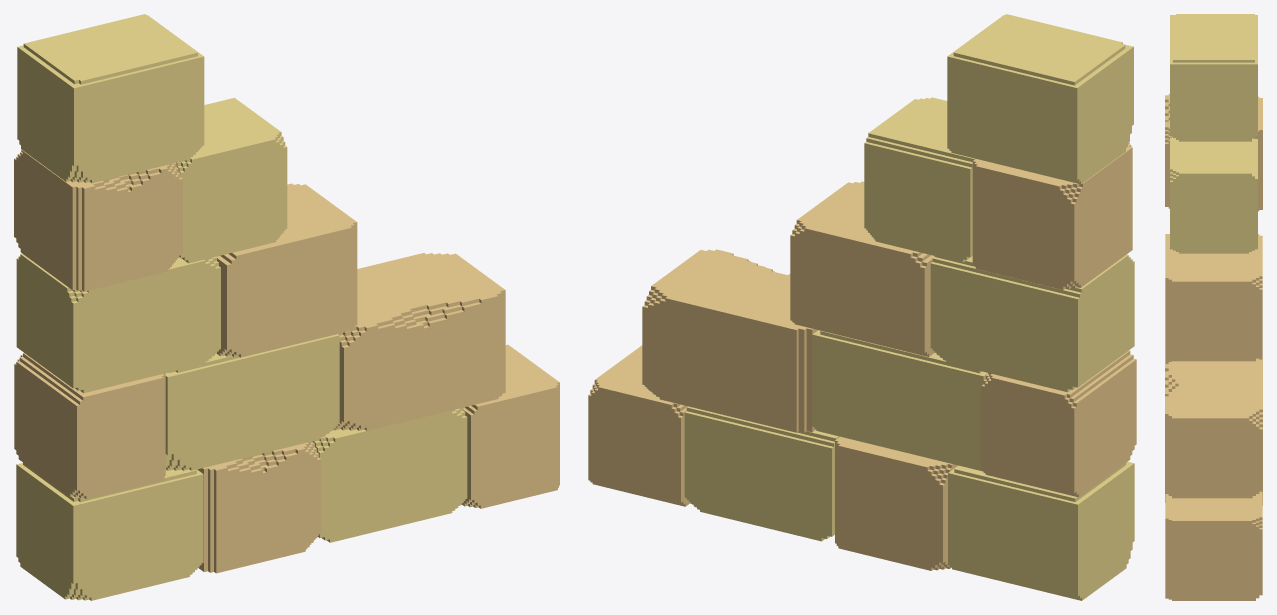
The model's file is BreakWallV2.fbx.
The picture shows the model from 3 angles, left to right: view 1: azimuth 30°, elevation 25°; view 2: azimuth 150°, elevation 25°; view 3: azimuth 270°, elevation 25°; orthographic projection. The views are drawn at different scales.
Parts seen in each view (by area): view 1: Brick.051, Brick.046, Brick.048, Brick.043, Brick.045, Brick.049, Brick.047, Brick.044, Brick.042, Brick.050, Brick.040, Brick.041; view 2: Brick.051, Brick.046, Brick.048, Brick.043, Brick.049, Brick.045, Brick.047, Brick.044, Brick.042, Brick.050, Brick.040, Brick.041; view 3: Brick.046, Brick.051, Brick.047, Brick.041, Brick.050, Brick.049.
Part boxes in pixels (<box>): Brick.051: <box>17,14,204,183</box>; Brick.046: <box>334,253,505,430</box>; Brick.048: <box>16,253,220,393</box>; Brick.043: <box>16,462,203,600</box>; Brick.045: <box>165,334,339,470</box>; Brick.049: <box>14,149,182,291</box>; Brick.047: <box>216,183,357,357</box>; Brick.044: <box>14,353,165,499</box>; Brick.042: <box>312,407,467,542</box>; Brick.050: <box>176,97,287,263</box>; Brick.040: <box>197,441,321,573</box>; Brick.041: <box>461,344,559,508</box>; Brick.051: <box>947,14,1133,184</box>; Brick.046: <box>642,249,817,432</box>; Brick.048: <box>930,254,1134,392</box>; Brick.043: <box>948,461,1134,600</box>; Brick.049: <box>972,142,1132,289</box>; Brick.045: <box>812,330,987,471</box>; Brick.047: <box>790,181,934,356</box>; Brick.044: <box>981,350,1136,497</box>; Brick.042: <box>684,406,839,541</box>; Brick.050: <box>864,97,975,262</box>; Brick.040: <box>835,436,957,570</box>; Brick.041: <box>588,345,690,506</box>; Brick.046: <box>1165,358,1262,498</box>; Brick.051: <box>1170,14,1257,141</box>; Brick.047: <box>1165,234,1262,361</box>; Brick.041: <box>1165,491,1262,600</box>; Brick.050: <box>1170,137,1257,253</box>; Brick.049: <box>1165,94,1262,211</box>.
Bounding box in the file's own units: 2 × 0.4464 × 2.04.
